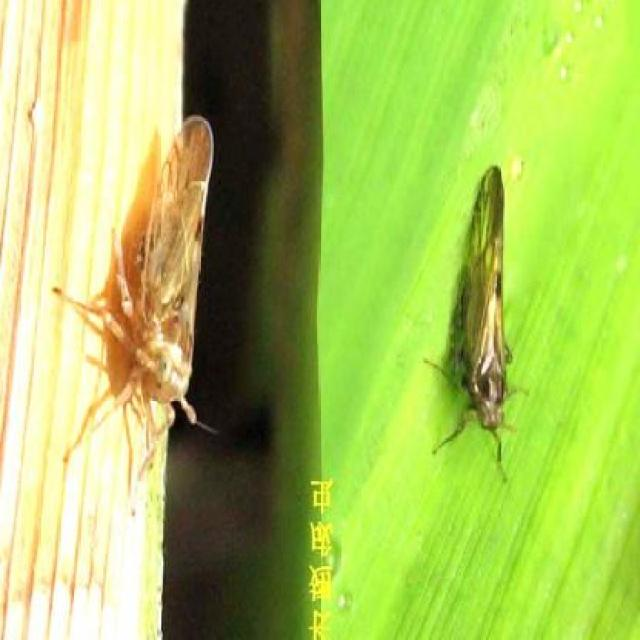brown-planthopper: (131, 112, 212, 428), (459, 162, 515, 435)
